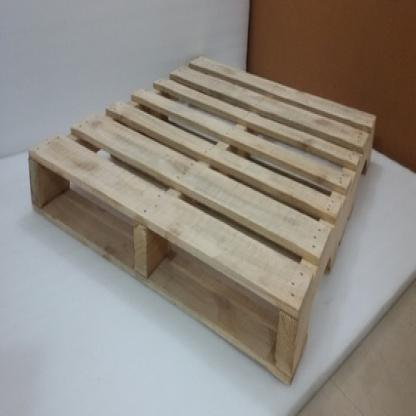BoxFace: (27, 49, 376, 392)
